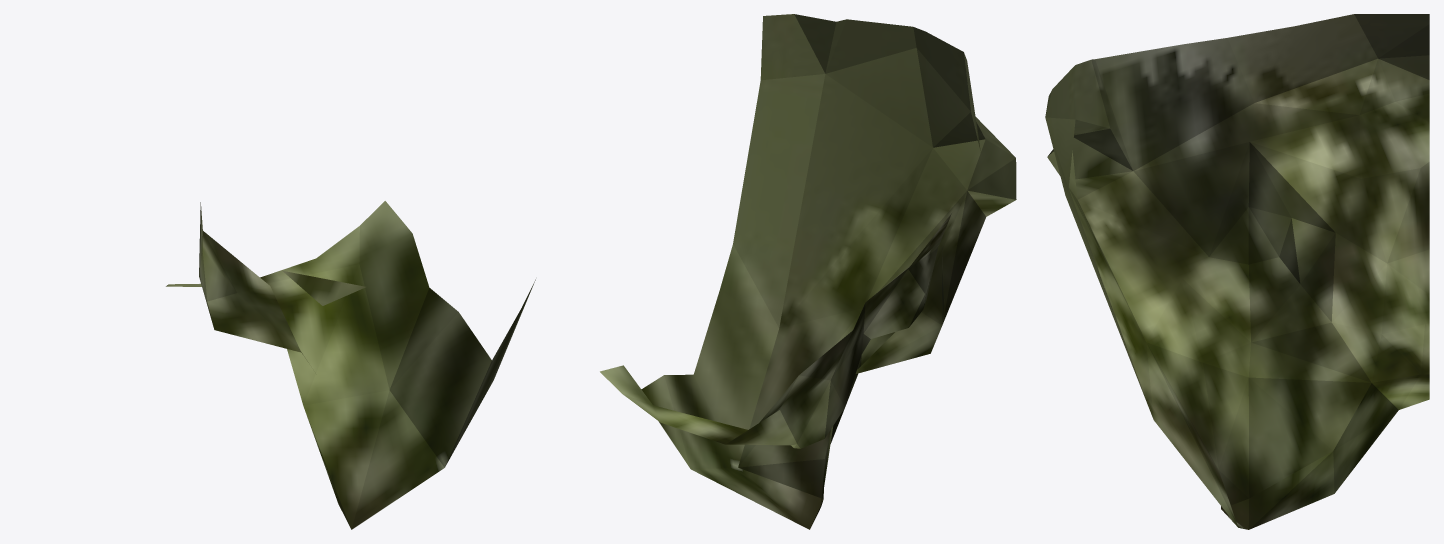
3 renders of one model, left to right at view 1: azimuth 30°, elevation 25°; view 2: azimuth 150°, elevation 25°; view 3: azimuth 270°, elevation 25°, orthographic. The views are drawn at different scales.
Size of the model in its own units: 0.6735 by 0.8476 by 0.6837.
Materials: 1 (1 with a texture image).
